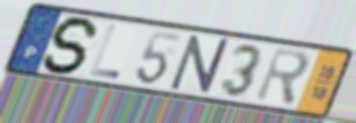3: (218, 42, 266, 99)
5: (133, 28, 185, 87)
L: (87, 22, 122, 81)
N: (168, 33, 232, 96)
R: (252, 45, 312, 109)
S: (40, 15, 102, 76)
